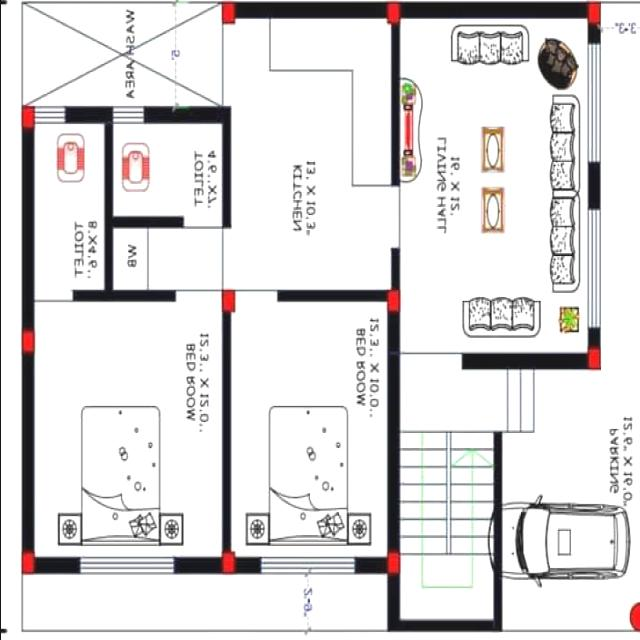Blueprint: (18, 0, 640, 629)
column: (18, 326, 38, 358), (384, 284, 402, 318), (18, 547, 36, 579), (218, 548, 236, 580), (383, 548, 401, 580), (218, 286, 236, 316), (584, 343, 602, 372), (19, 101, 35, 131), (218, 0, 236, 26), (384, 0, 400, 27), (585, 0, 601, 26)
wall: (396, 0, 588, 22), (384, 306, 400, 556), (18, 349, 36, 554), (18, 124, 34, 334), (231, 0, 387, 20), (459, 349, 589, 373), (220, 308, 232, 554), (490, 427, 504, 636), (70, 285, 178, 307), (102, 103, 114, 293), (384, 616, 504, 635), (388, 20, 401, 190), (274, 286, 389, 304), (140, 104, 232, 126), (220, 104, 232, 232), (109, 212, 185, 231), (171, 554, 223, 578), (384, 570, 402, 636), (31, 554, 81, 576), (62, 104, 114, 125), (350, 552, 390, 578), (584, 158, 602, 212), (231, 552, 263, 578), (387, 244, 402, 294), (584, 324, 602, 352), (586, 22, 602, 48)
